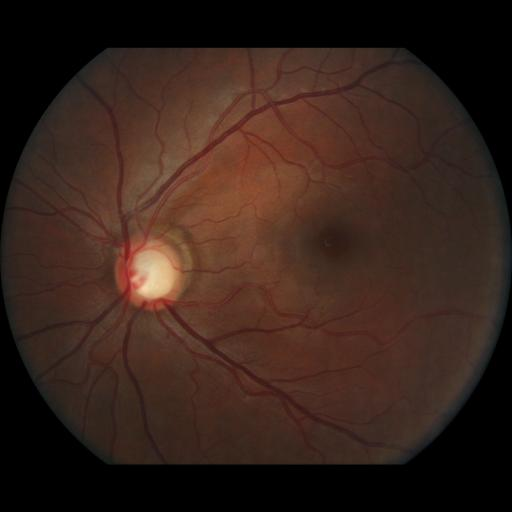Optic Cup: (127, 251, 173, 299)
Optic Disc: (115, 237, 182, 311)
